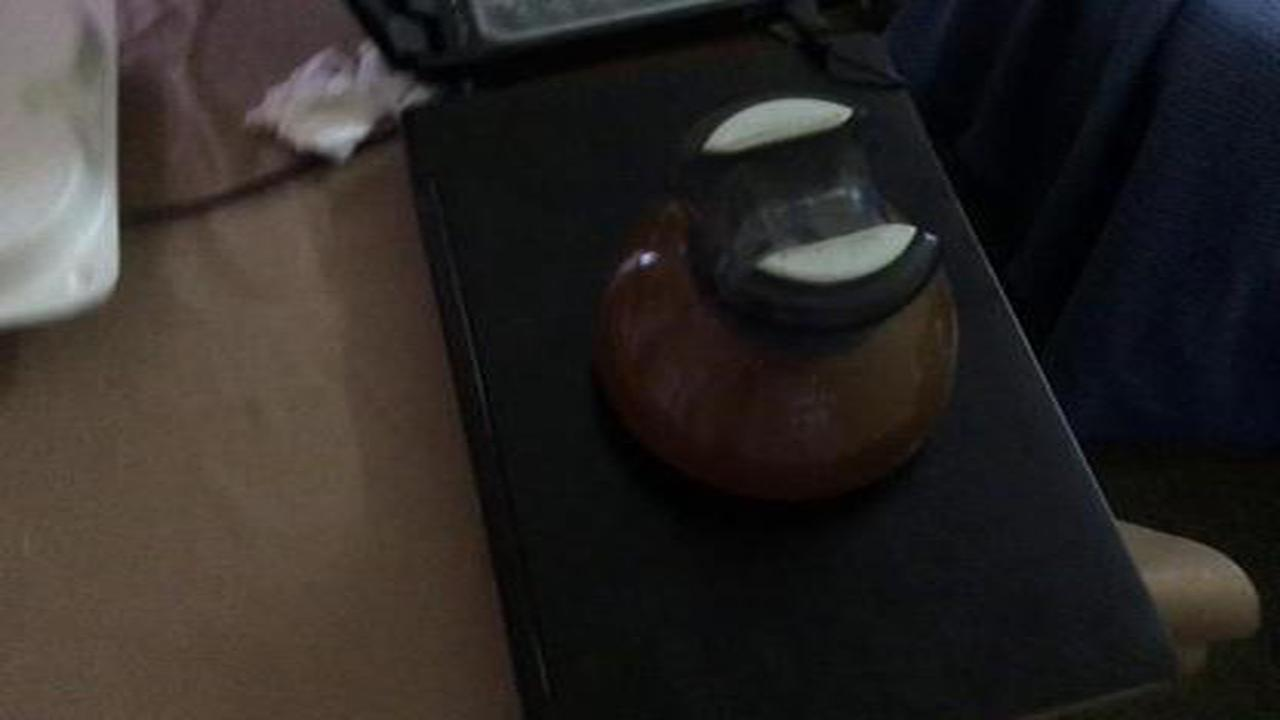insulator_pin: (579, 68, 991, 520)
